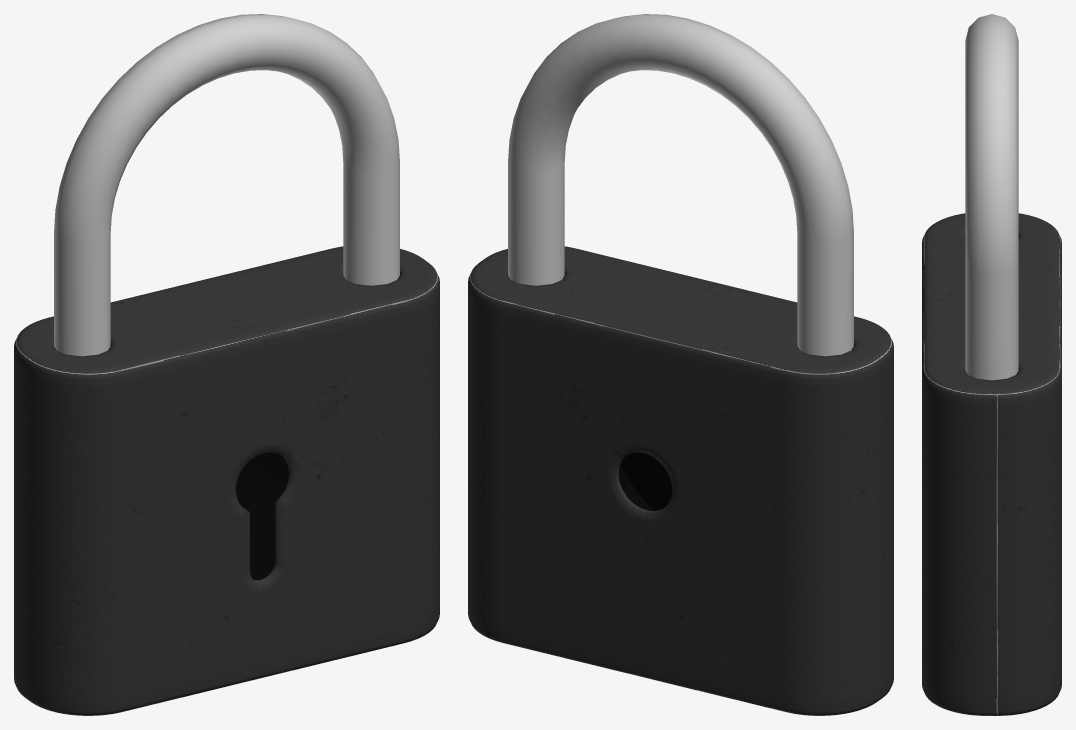
File: lock.glb
3 views of the same model, side by side, from view 1: azimuth 30°, elevation 25°; view 2: azimuth 150°, elevation 25°; view 3: azimuth 270°, elevation 25° (orthographic). The views are drawn at different scales.
Parts seen in each view (by area): view 1: Lock; view 2: Lock; view 3: Lock.
Part boxes in pixels (x1,y1,x2,y2): Lock: (14, 14, 439, 715); Lock: (468, 14, 893, 715); Lock: (922, 14, 1061, 715).
Bounding box in the file's own units: 0.6151 × 0.9256 × 0.1972.
1 material, 1 textured.
